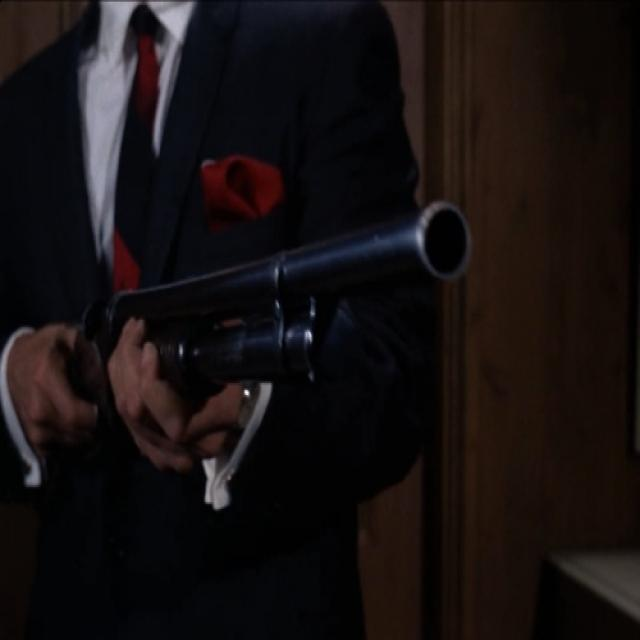rifle: (61, 192, 472, 413)
